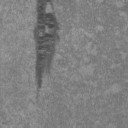oxide scale of plate system: (30, 0, 62, 90)
